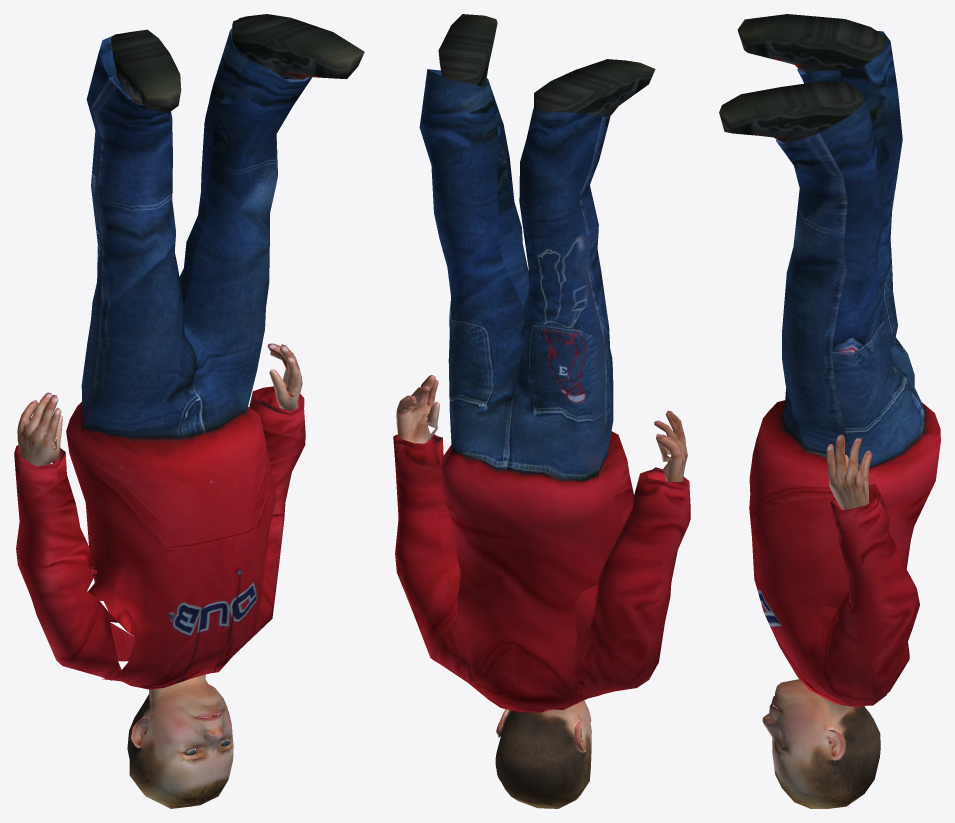
The model's file is boy2.glb.
3 renders of one model, left to right at view 1: azimuth 30°, elevation 25°; view 2: azimuth 150°, elevation 25°; view 3: azimuth 270°, elevation 25°, orthographic. The views are drawn at different scales.
Visible parts, largest first — view 1: boy; view 2: boy; view 3: boy.
Part boxes in pixels (box(x1,y1,x2,y2)): boy: box(14, 14, 364, 808); boy: box(393, 14, 690, 808); boy: box(719, 14, 940, 808).
Size of the model in its own units: 0.504 by 1.24 by 0.3304.
1 material, 1 textured.
